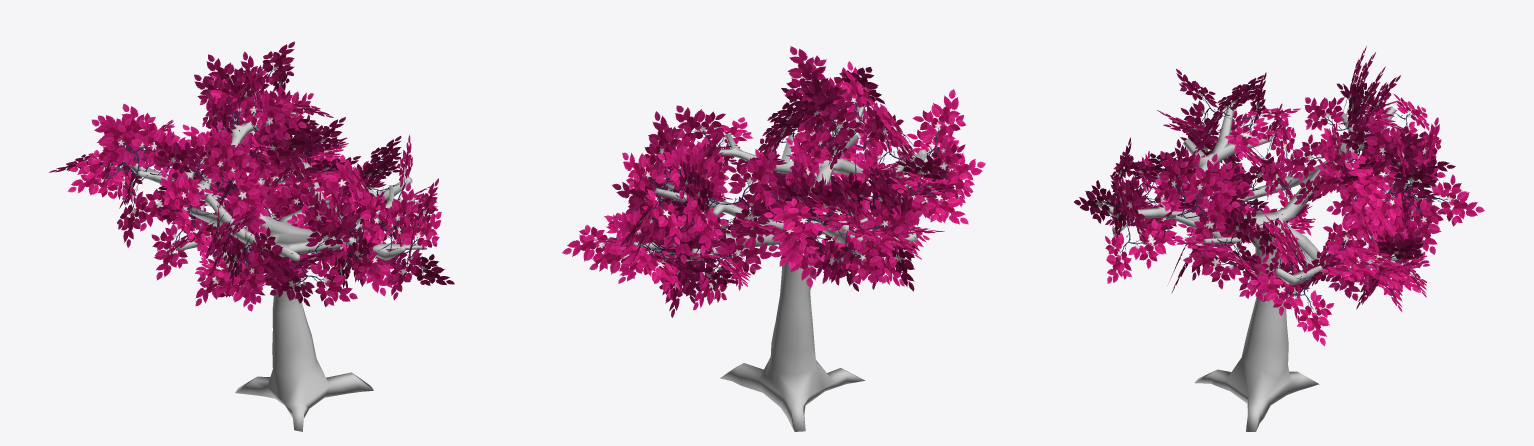
The model's file is PinkTree3 (2).fbx.
3 views of the same model, side by side, from view 1: azimuth 30°, elevation 25°; view 2: azimuth 150°, elevation 25°; view 3: azimuth 270°, elevation 25° (orthographic). The views are drawn at different scales.
Parts seen in each view (by area): view 1: Tree3|PinkLeaves_1.001|Dupli|80, Tree3; view 2: Tree3|PinkLeaves_1.001|Dupli|80, Tree3; view 3: Tree3|PinkLeaves_1.001|Dupli|80, Tree3.
Part boxes in pixels (x1,y1,x2,y2): Tree3|PinkLeaves_1.001|Dupli|80: (49,41,454,311); Tree3: (129,90,426,431); Tree3|PinkLeaves_1.001|Dupli|80: (562,46,985,317); Tree3: (633,99,927,431); Tree3|PinkLeaves_1.001|Dupli|80: (1074,46,1484,346); Tree3: (1089,105,1421,431).
Bounding box in the file's own units: 1900 × 1615 × 2128.
